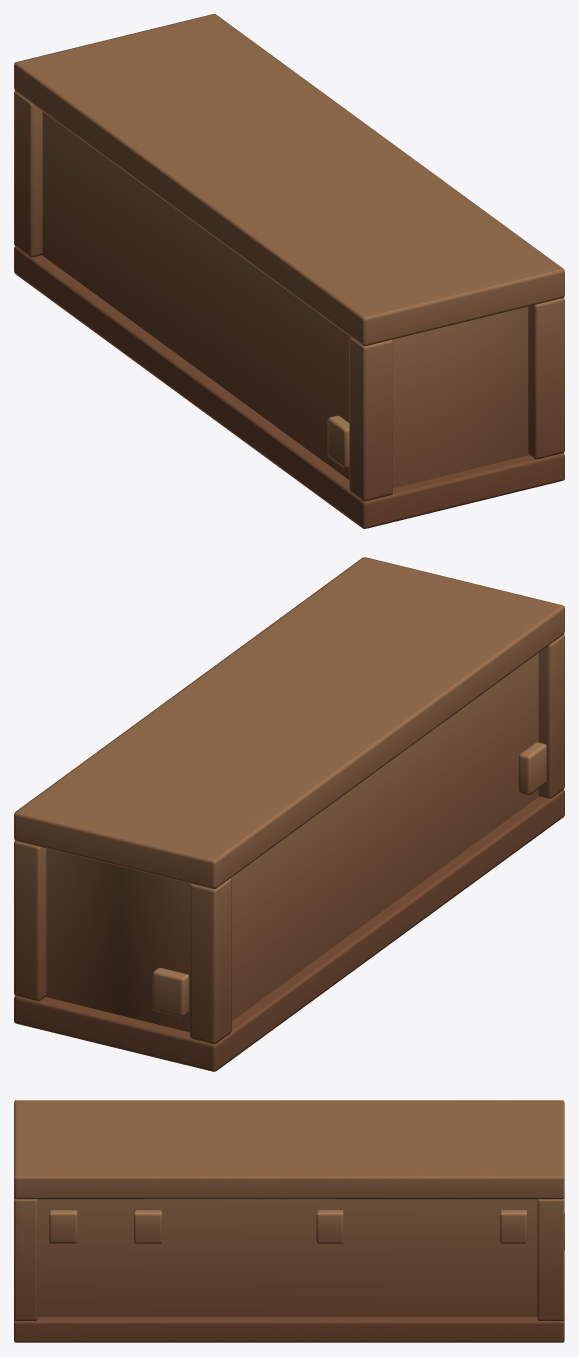
Rendered from SM_Clay_Body_05.fbx.
3 views of the same model, one above another, from view 1: azimuth 30°, elevation 25°; view 2: azimuth 150°, elevation 25°; view 3: azimuth 270°, elevation 25° (orthographic). The views are drawn at different scales.
Visible parts, largest first — view 1: SM_Clay_Body_05; view 2: SM_Clay_Body_05; view 3: SM_Clay_Body_05.
Boxes of the visible parts, bbox=[...] form: SM_Clay_Body_05: bbox=[14, 14, 564, 528]; SM_Clay_Body_05: bbox=[14, 557, 564, 1071]; SM_Clay_Body_05: bbox=[14, 1100, 564, 1342].
Bounding box in the file's own units: 1 × 0.9979 × 3.
Materials: 1 (1 with a texture image).
